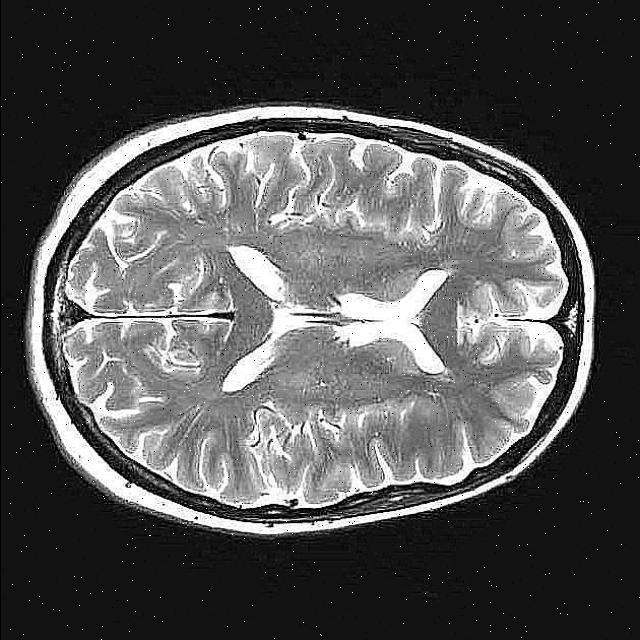No_Tumor: (27, 105, 595, 536)
